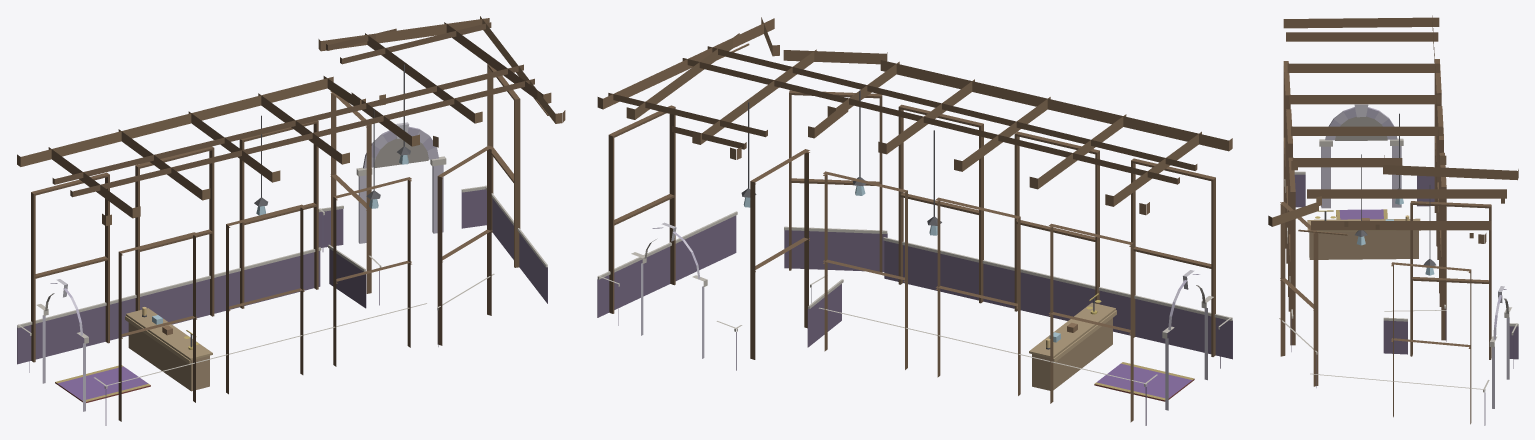
File: interior_b034.glb
3 renders of one model, left to right at view 1: azimuth 30°, elevation 25°; view 2: azimuth 150°, elevation 25°; view 3: azimuth 270°, elevation 25°, orthographic. The views are drawn at different scales.
Parts seen in each view (by area): view 1: Interior_B034_mesh; view 2: Interior_B034_mesh; view 3: Interior_B034_mesh.
Part boxes in pixels (x1,y1,x2,y2): Interior_B034_mesh: [17, 16, 565, 425]; Interior_B034_mesh: [597, 17, 1232, 425]; Interior_B034_mesh: [1268, 15, 1518, 425].
Bounding box in the file's own units: 16.31 × 6.57 × 7.97.
